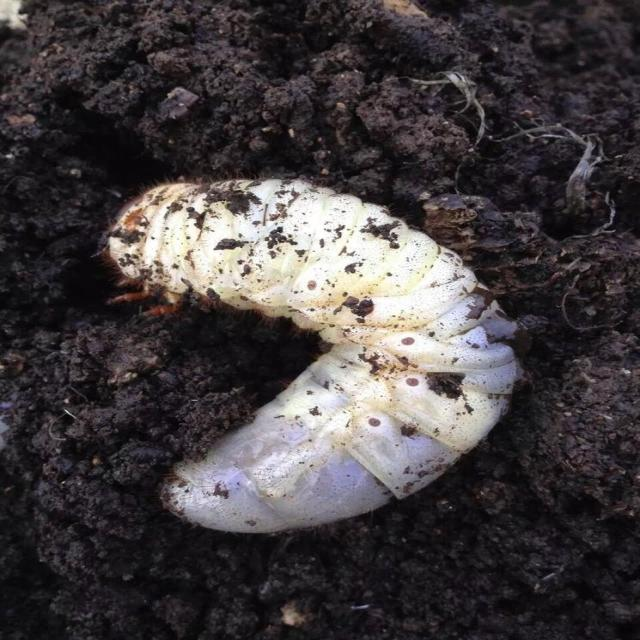grub: (100, 183, 545, 532)
